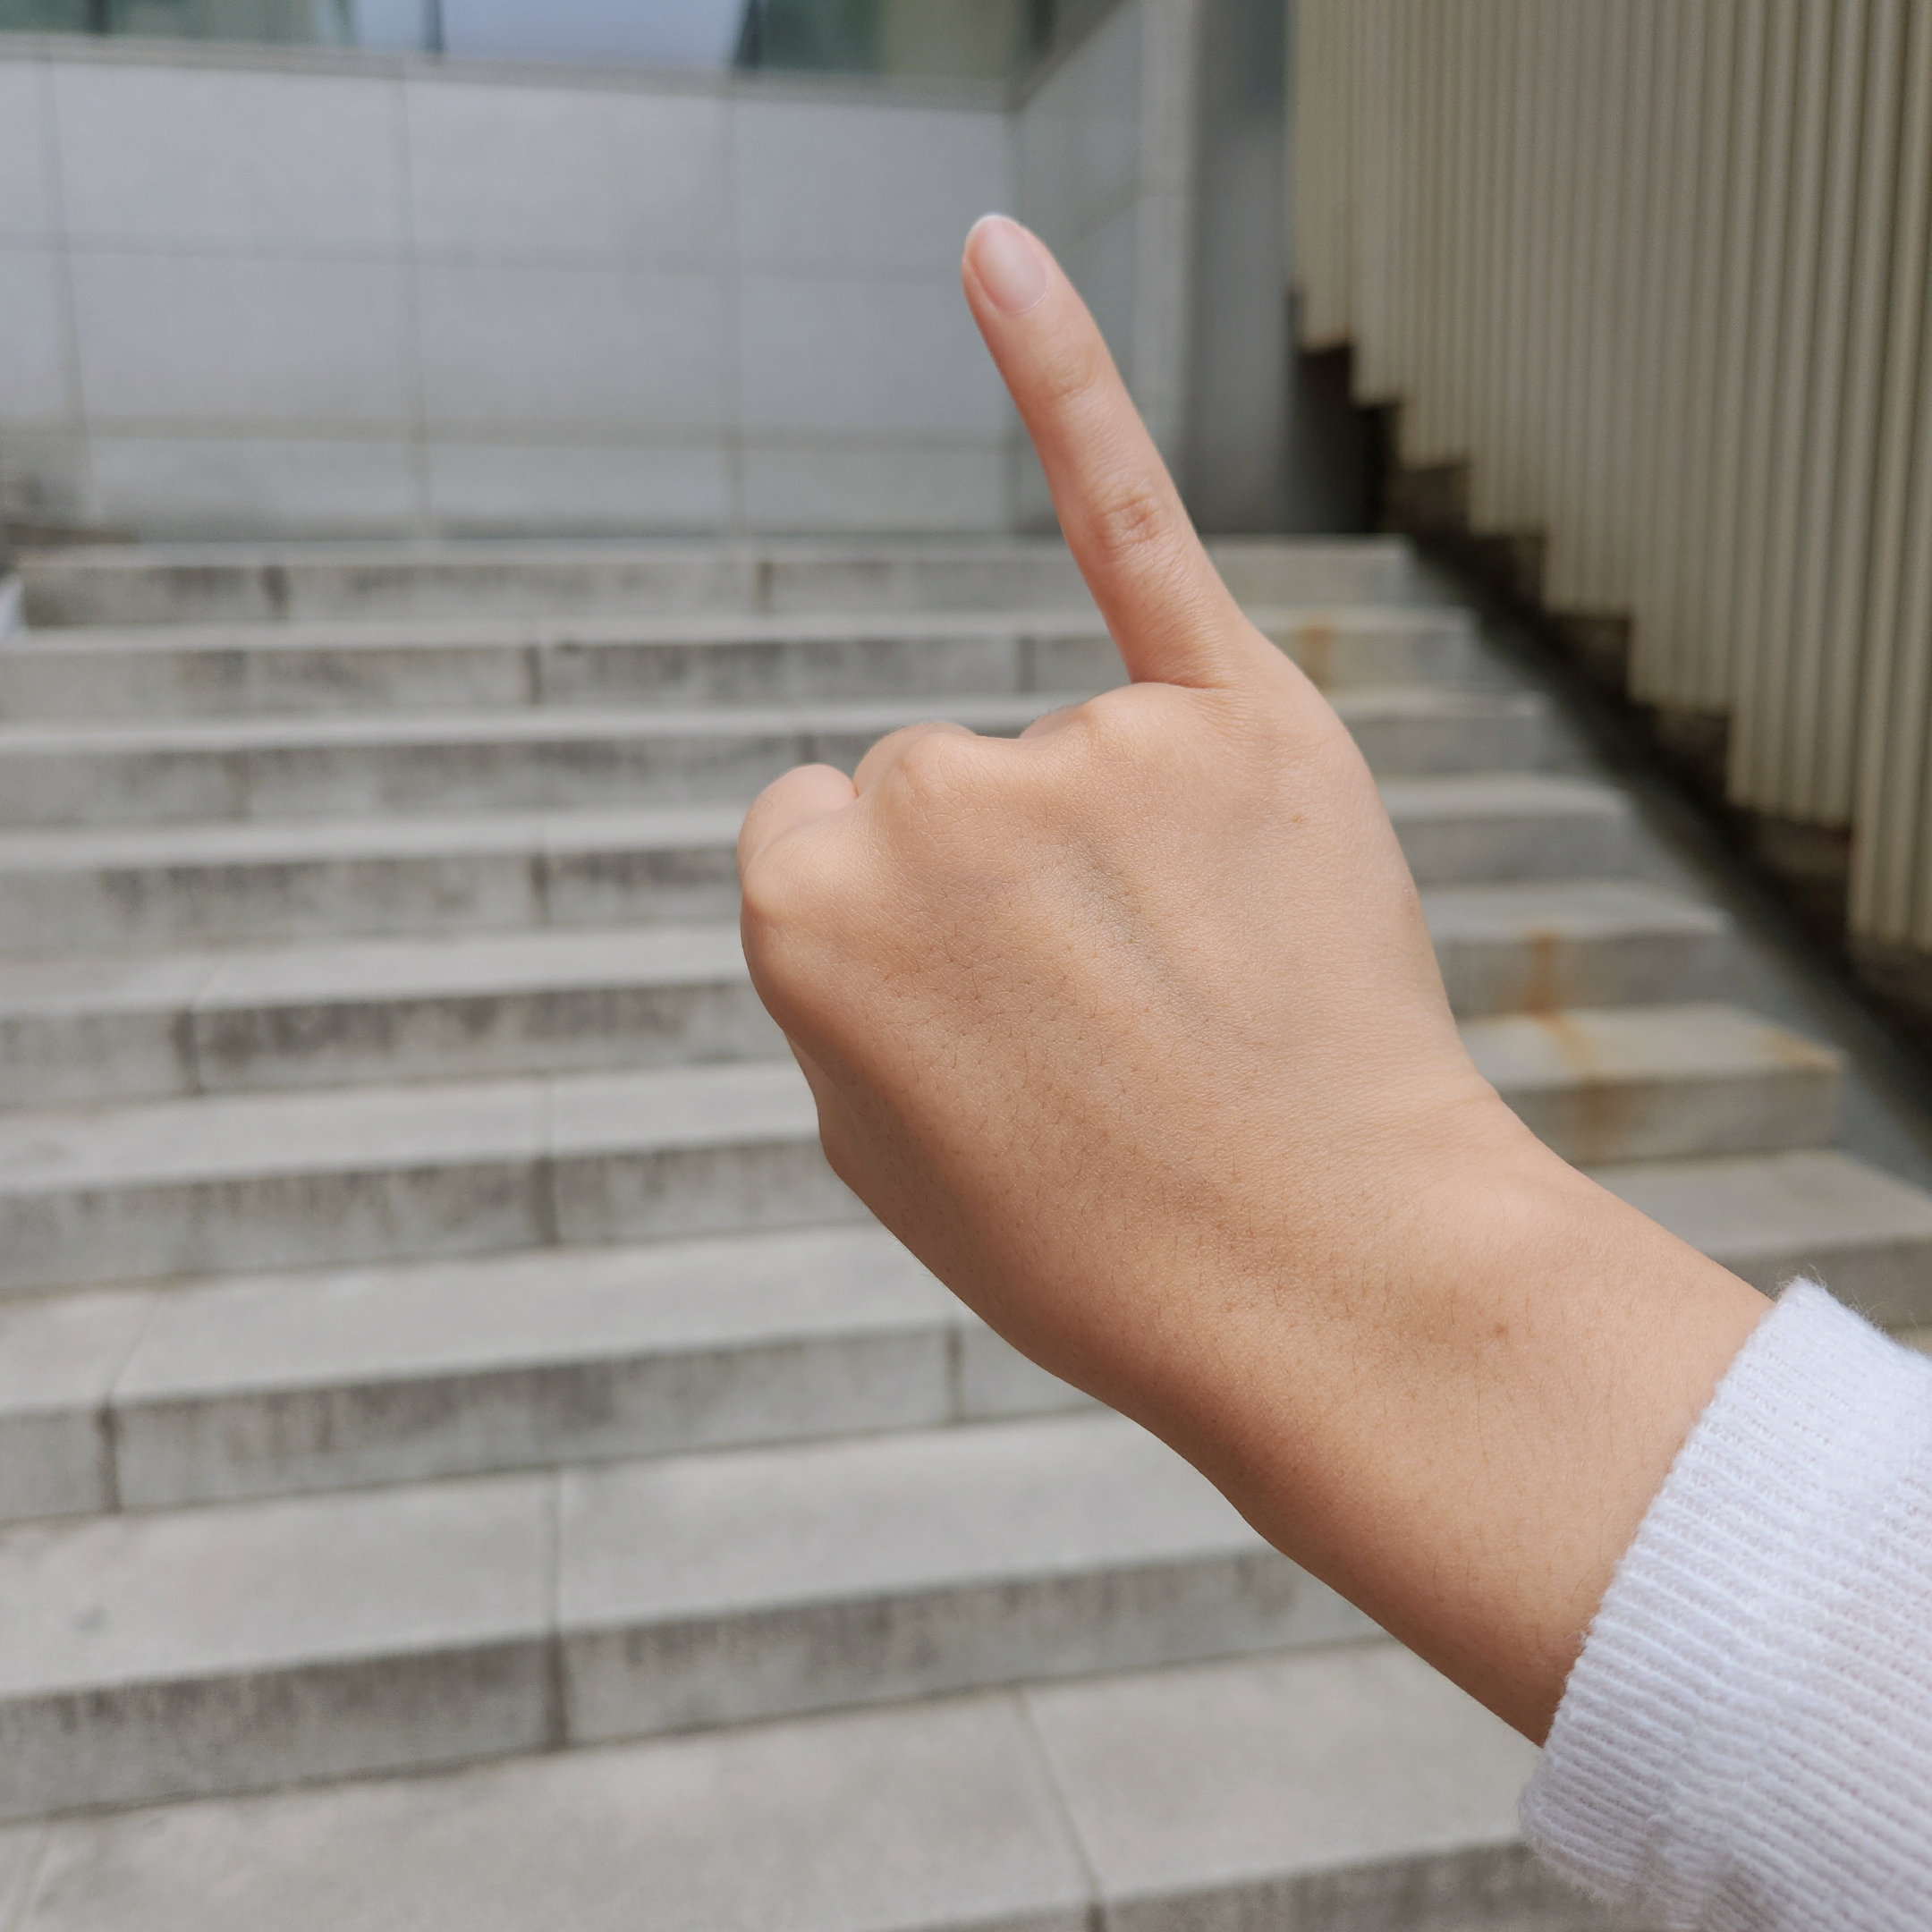fine: (740, 218, 1449, 1274)
